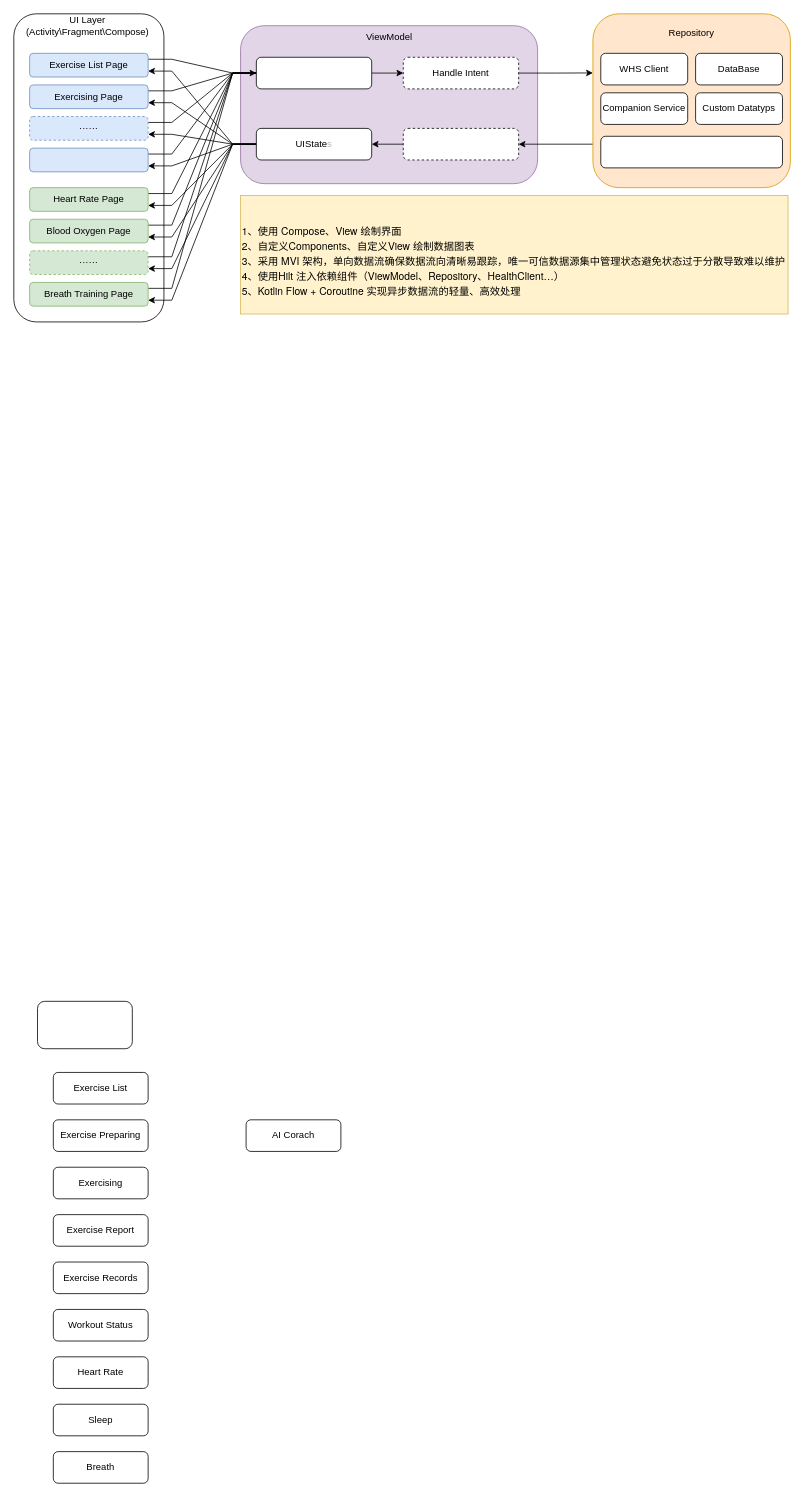
This 804x1497 diagram has some shape labels left out. Each missing label, with the centre of its shape:
Data Point Files Parser: (x=691, y=151)
Data Processing: (x=461, y=144)
Exercise Records Page: (x=88, y=159)
Intent s (Wrap as Intents): (x=314, y=72)
UIState: (x=84, y=1025)
